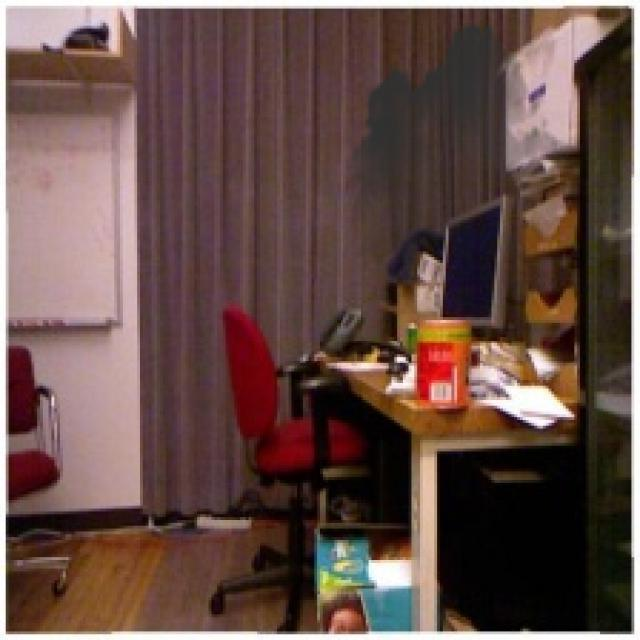Smoke: (346, 11, 572, 286)
